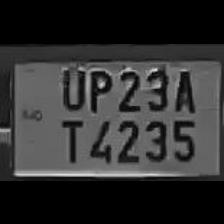2: (113, 65, 141, 111), (113, 116, 139, 162)
3: (140, 114, 168, 162), (141, 63, 169, 109)
4: (84, 114, 112, 164)
5: (168, 115, 198, 161)
A: (170, 64, 198, 110)
P: (84, 64, 112, 112)
T: (54, 113, 85, 163)
U: (55, 62, 86, 110)
